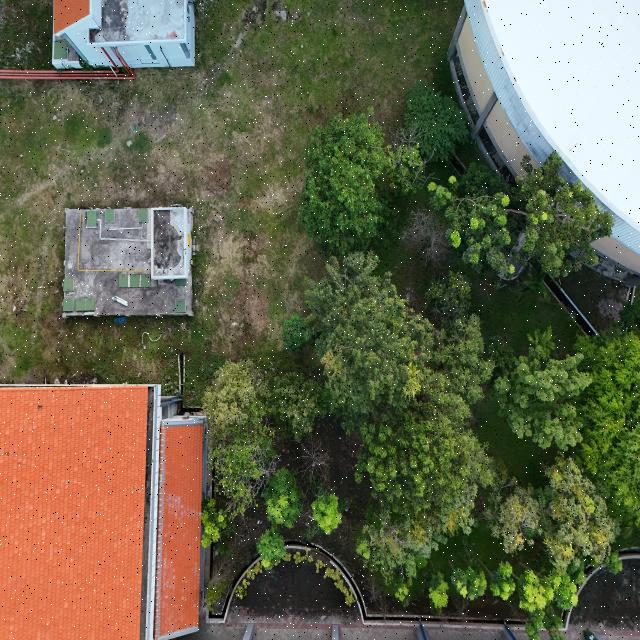Tree: (401, 82, 472, 162), (496, 477, 538, 552), (266, 470, 302, 531), (199, 498, 227, 550), (451, 564, 487, 604), (313, 494, 344, 535), (254, 528, 285, 569)
